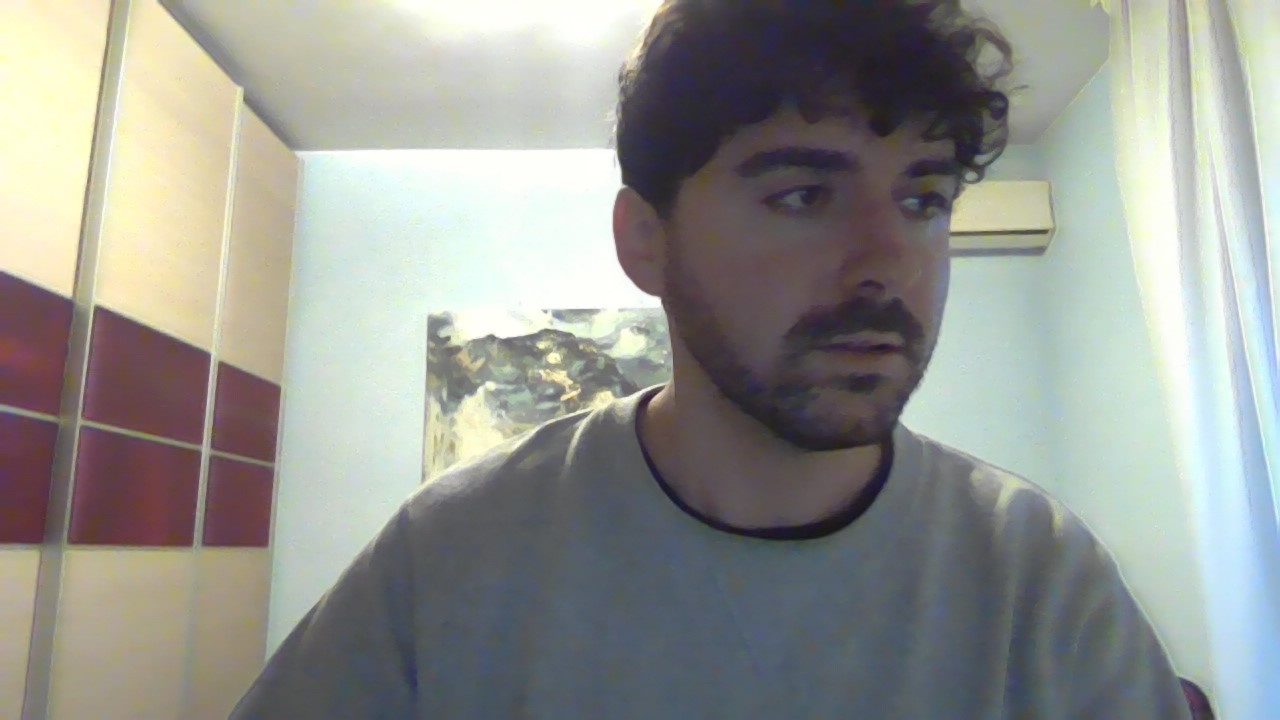NoGlasses: (642, 145, 972, 240)
